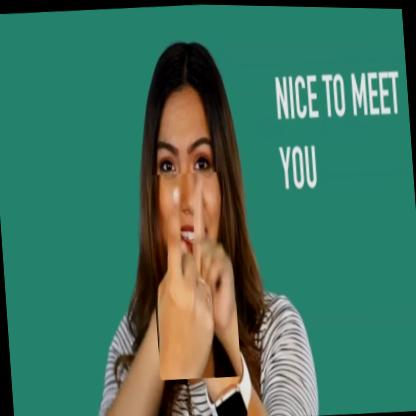NiceToMeetYou: (146, 169, 242, 381)
